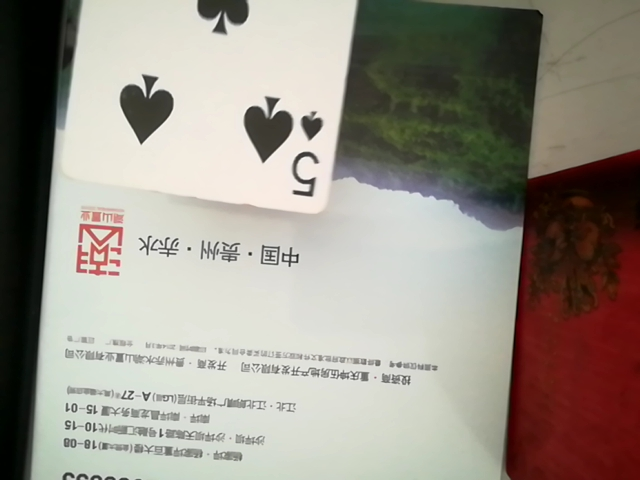ht 5: (60, 0, 399, 217)
